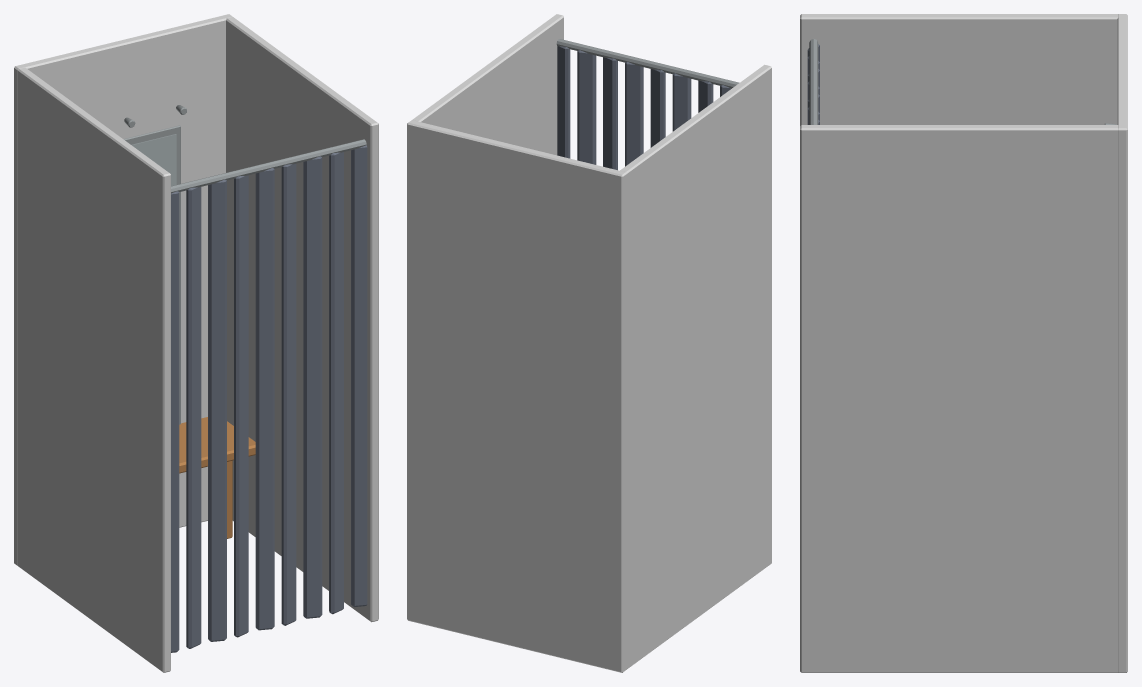
File: fitting-room-cubicle.glb
3 views of the same model, side by side, from view 1: azimuth 30°, elevation 25°; view 2: azimuth 150°, elevation 25°; view 3: azimuth 270°, elevation 25° (orthographic). The views are drawn at different scales.
Visible parts, largest first — view 1: fitting-room-cubicle.tint, fitting-room-cubicle.fabric, fitting-room-cubicle.metal, fitting-room-cubicle.wood, fitting-room-cubicle.glass; view 2: fitting-room-cubicle.tint, fitting-room-cubicle.fabric, fitting-room-cubicle.metal; view 3: fitting-room-cubicle.tint, fitting-room-cubicle.metal.
Part boxes in pixels (<box>): fitting-room-cubicle.tint: <box>14,14,378,672</box>; fitting-room-cubicle.fabric: <box>171,145,367,652</box>; fitting-room-cubicle.metal: <box>123,105,366,424</box>; fitting-room-cubicle.wood: <box>179,417,255,538</box>; fitting-room-cubicle.glass: <box>132,134,176,185</box>; fitting-room-cubicle.tint: <box>407,14,771,672</box>; fitting-room-cubicle.fabric: <box>557,46,731,170</box>; fitting-room-cubicle.metal: <box>556,39,739,88</box>; fitting-room-cubicle.tint: <box>800,14,1127,672</box>; fitting-room-cubicle.metal: <box>809,39,1116,124</box>.
Bounding box in the file's own units: 1 × 2.2 × 1.2.
